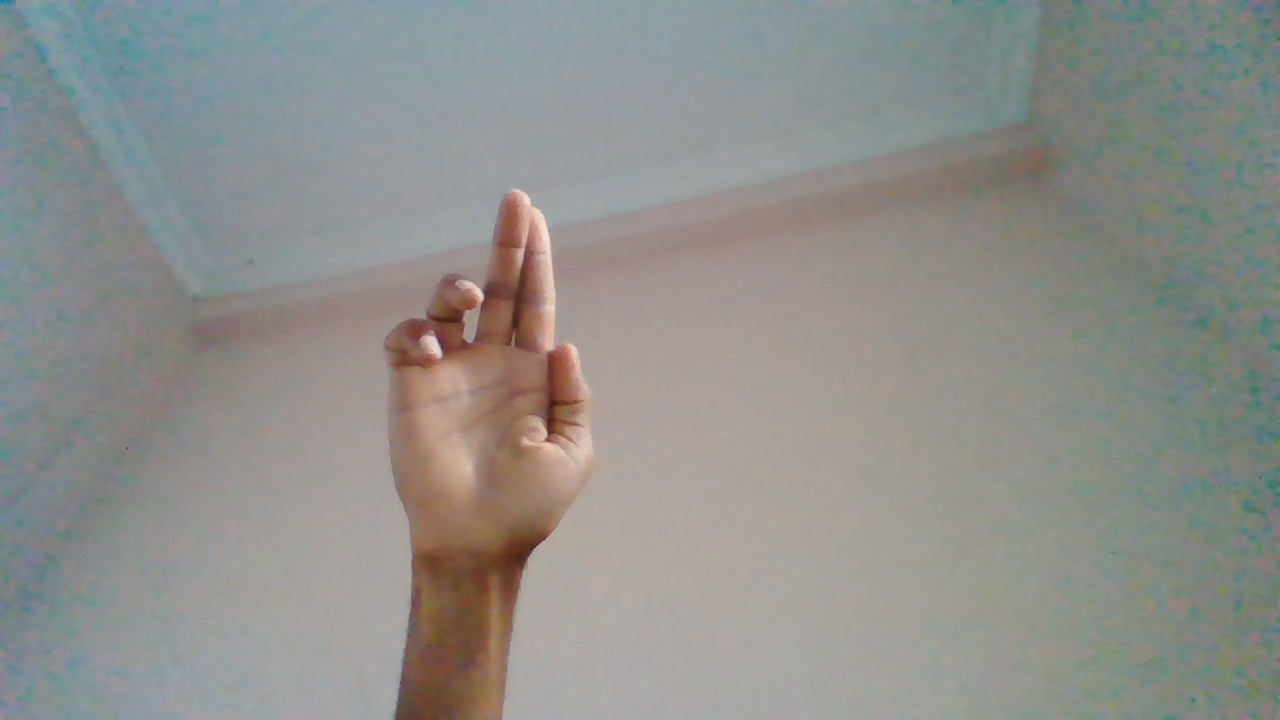gne: (367, 185, 595, 644)
